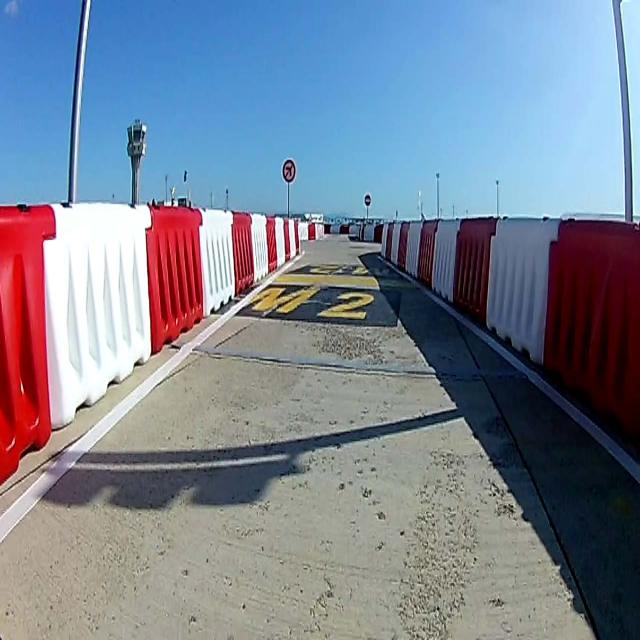soladonulmez: (282, 160, 296, 181)
